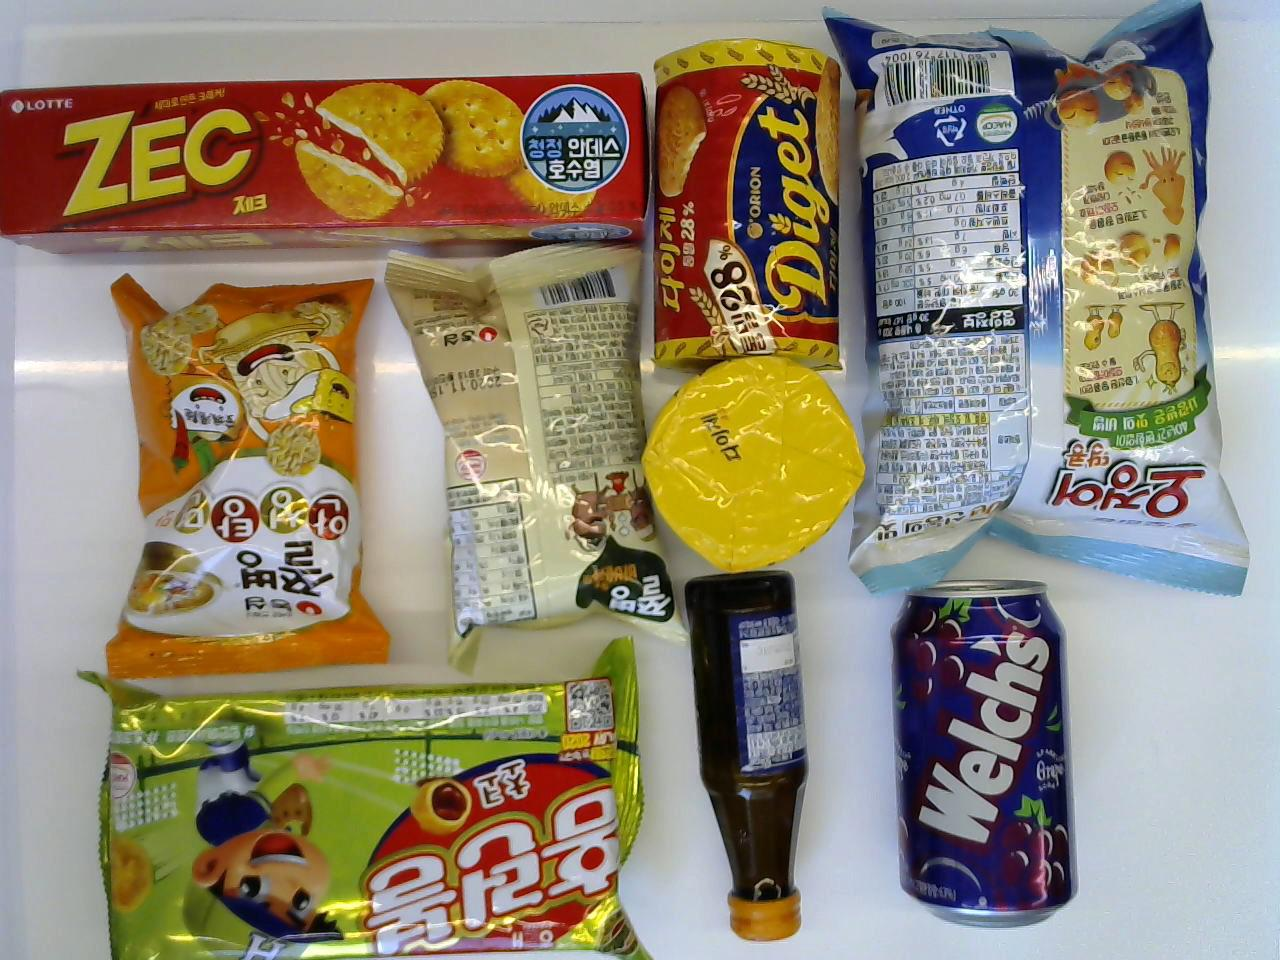diget_choco: (646, 351, 865, 574)
diget_ori: (648, 41, 847, 375)
homerunball: (65, 630, 661, 960)
jjolbyung_noodle: (97, 268, 381, 676)
jjolbyung_ori: (384, 226, 695, 673)
squid_peanut: (822, 0, 1257, 602)
vita500: (680, 566, 818, 948)
welchs: (888, 581, 1084, 935)
zec: (0, 61, 652, 241)
